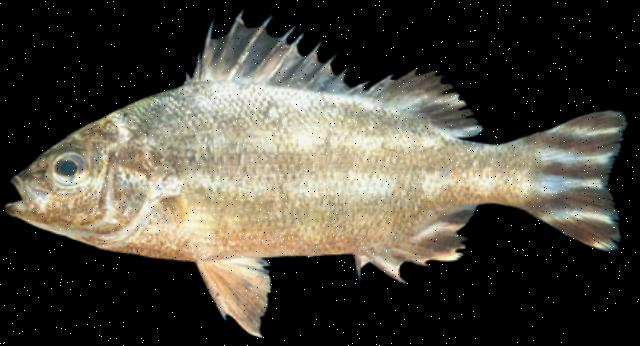Mulut: (2, 162, 40, 230)
Sirip Anal: (346, 203, 472, 285)
Sirip Ekor: (524, 105, 632, 255)
Sirip Perut: (198, 249, 276, 339)
Sirip Punggung: (183, 3, 493, 141)
